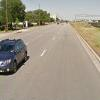Car: (1, 32, 30, 81)
